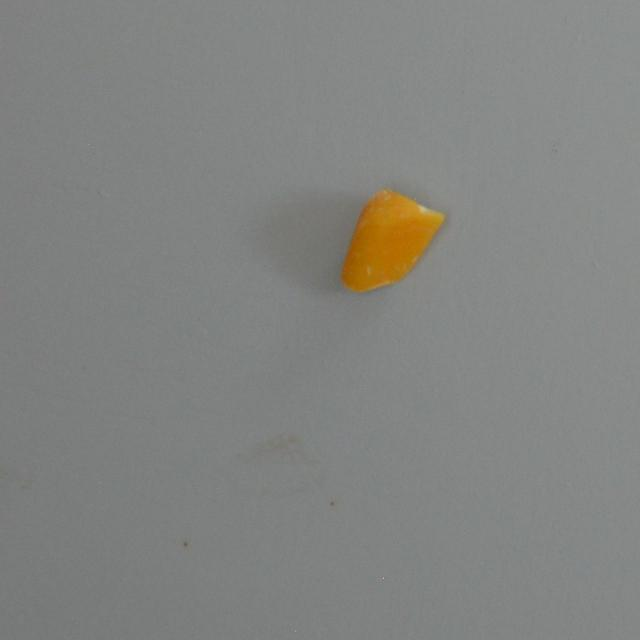pelicula: (340, 188, 444, 294)
